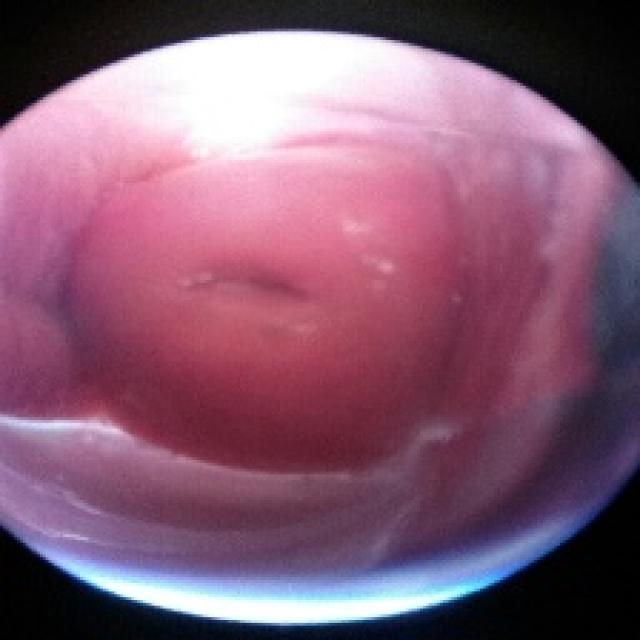type-3: (30, 59, 569, 570)
